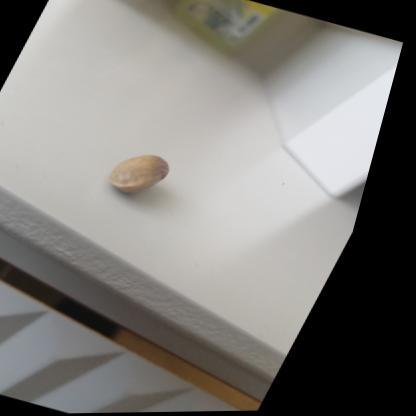pistachio: (102, 146, 175, 199)
